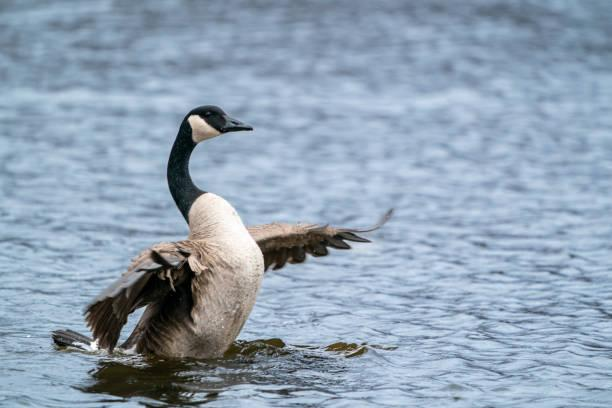Canadian-Goose: (76, 101, 382, 357)
